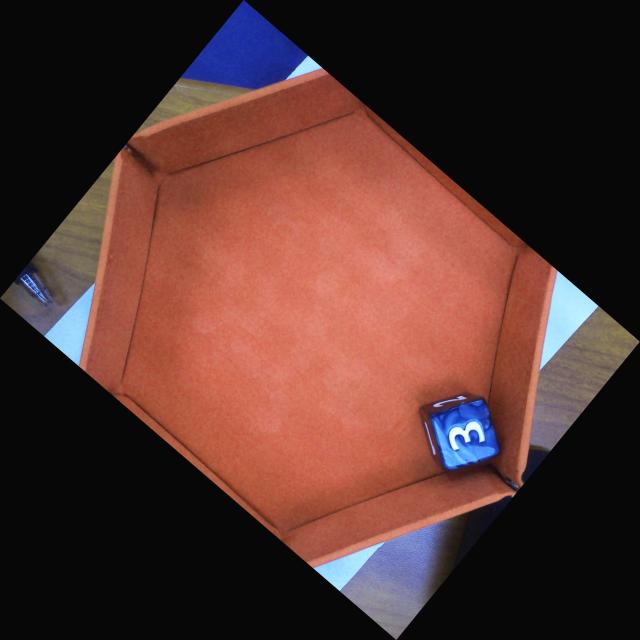dice: (427, 394, 505, 475)
